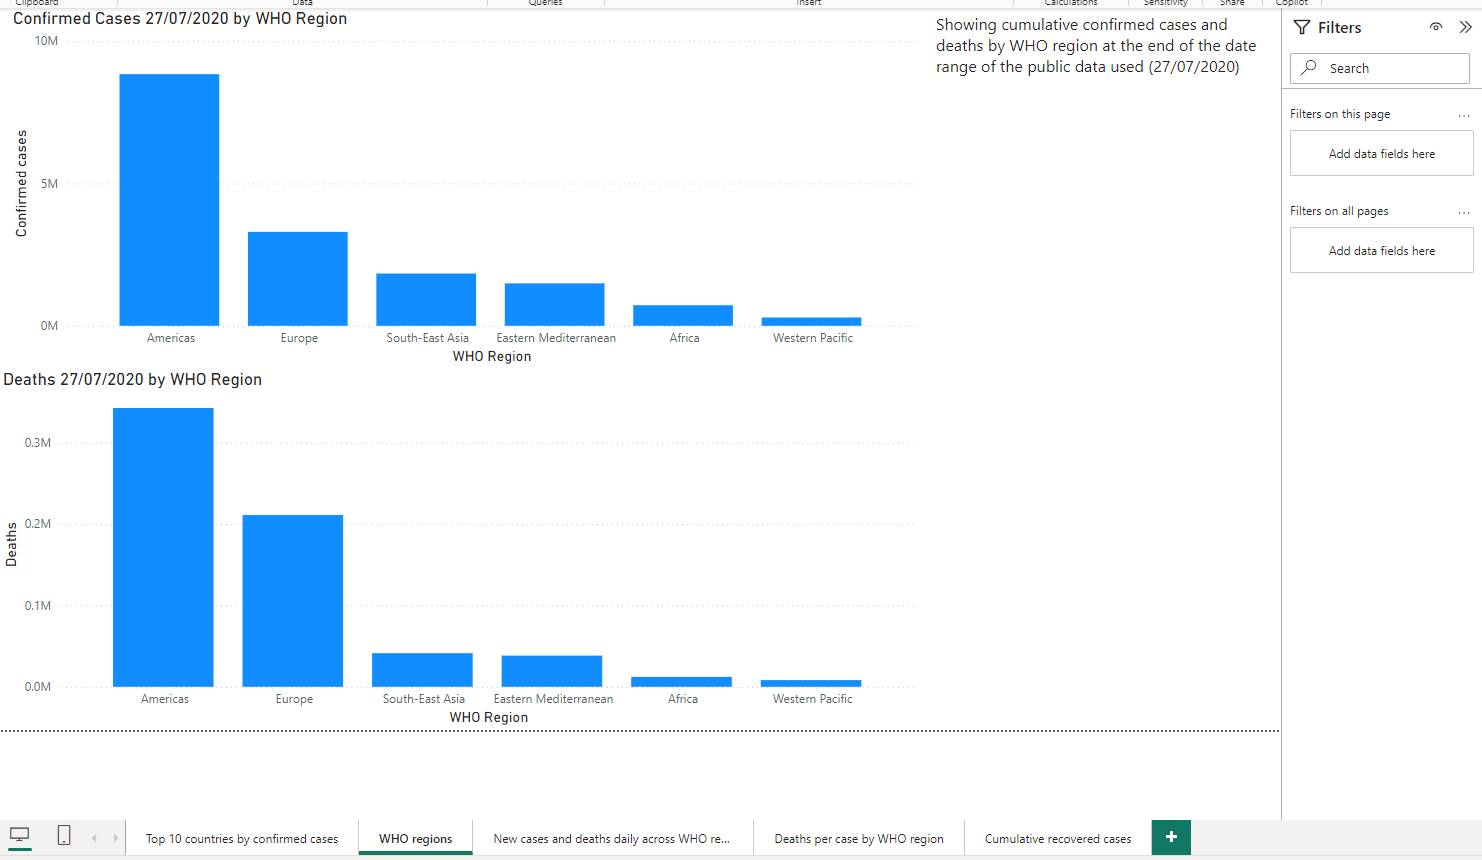

The dashboard page shown, as its layout file describes it:
{"tool":"powerbi","page":{"name":"WHO regions","canvas":[1280,720],"ordinal":1},"visuals":[{"type":"clusteredColumnChart","title":"Confirmed Cases 27/07/2020 by WHO Region","fields":{"Category":["full_grouped.WHO Region"],"Y":["full_grouped.ConfirmedCasesAtEndOfDateRange"]},"box":[10.5,0,910.6,360.1],"z":0},{"type":"clusteredColumnChart","title":"Deaths 27/07/2020 by WHO Region","fields":{"Category":["full_grouped.WHO Region"],"Y":["full_grouped.DeathsAtEndOfDateRange"]},"box":[0,360.1,921.1,360.1],"z":1000},{"type":"textbox","box":[931,0,349,360],"z":2000}]}

Visuals, with their boxes on the page's 1280x720 design canvas (x1, y1, x2, y2). These are canvas units, not pixel positions in the 1482x860 screenshot, which may show the page scaled, cropped or inside an application window:
"Confirmed Cases 27/07/2020 by WHO Region" clusteredColumnChart: 10, 0, 921, 360
"Deaths 27/07/2020 by WHO Region" clusteredColumnChart: 0, 360, 921, 720
textbox: 931, 0, 1280, 360
